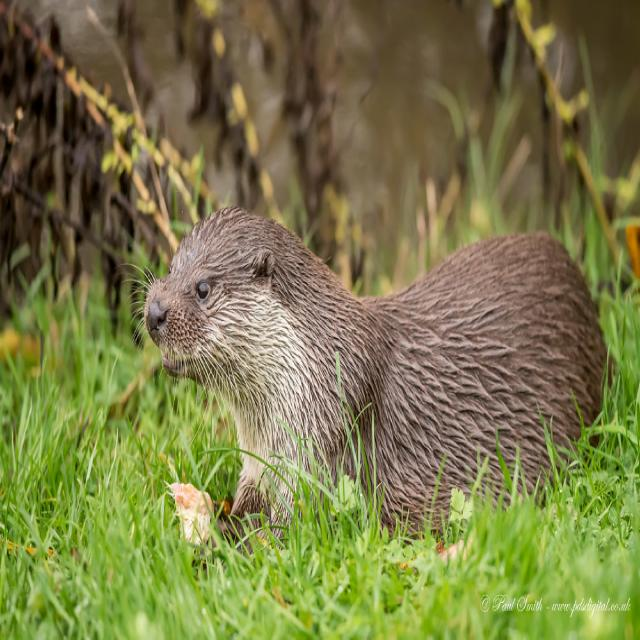otter: (148, 205, 607, 528)
